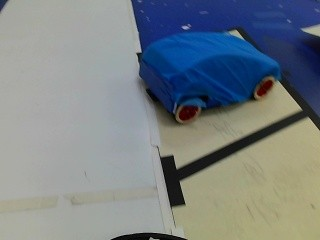car: (129, 26, 285, 124)
